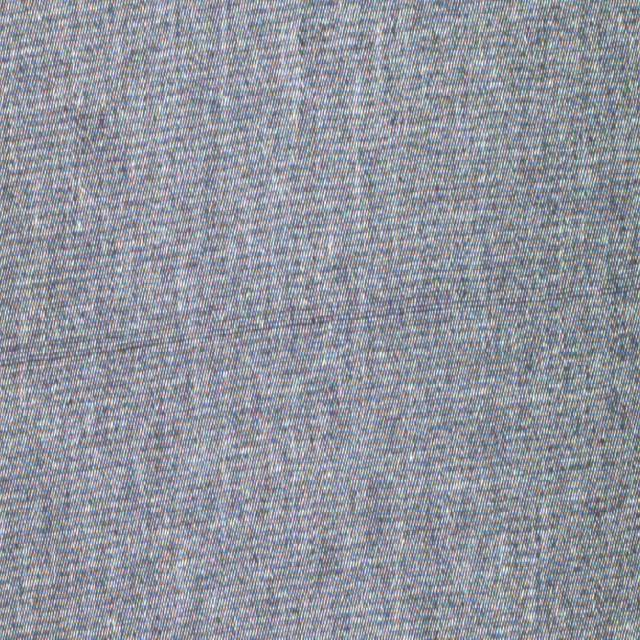Line: (0, 273, 640, 378)
